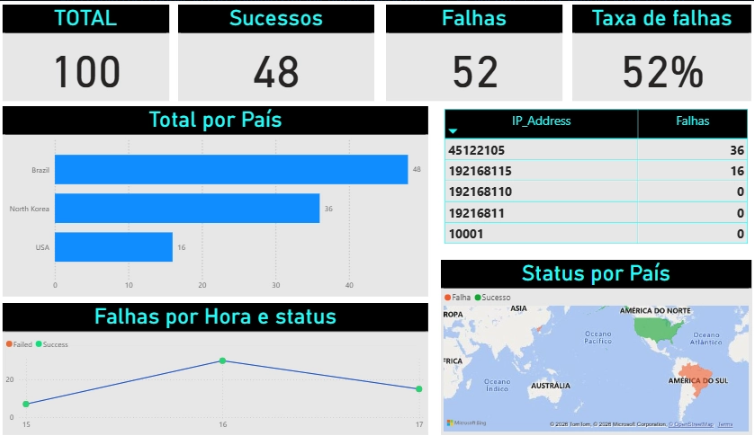

Layout of this report page (visuals, bound fields, positions):
{"tool":"powerbi","page":{"name":"Relatório_anomalias_países","canvas":[1280,720],"ordinal":0},"visuals":[{"type":"actionButton","box":[0,0,100,40],"z":0},{"type":"barChart","title":"Total por País","fields":{"Category":["logs_seguranca.country"],"Y":["CountNonNull(logs_seguranca.country)"]},"box":[49.8,174.1,692.2,310.2],"z":1000},{"type":"card","title":"TOTAL","fields":{"Values":["CountNonNull(logs_seguranca.status)"]},"box":[49.8,8.8,270.7,156.6],"z":2000},{"type":"card","title":"Falhas","fields":{"Values":["logs_seguranca.Falhas"]},"box":[673.2,8.8,286.8,156.6],"z":3000},{"type":"card","title":"Taxa de falhas","fields":{"Values":["logs_seguranca.Percentual_Falha"]},"box":[976.1,8.8,291.2,156.6],"z":4000},{"type":"card","title":"Sucessos","fields":{"Values":["logs_seguranca.Sucessos_Corrigido"]},"box":[335.1,8.8,319,156.6],"z":5000},{"type":"tableEx","fields":{"Values":["logs_seguranca.ip_address","logs_seguranca.Falhas"]},"box":[762.4,174.1,504.9,250.2],"z":6000},{"type":"lineChart","fields":{"Y":["logs_seguranca.Falhas"],"Category":["logs_seguranca.Hora"],"Series":["logs_seguranca.status"]},"box":[49.8,494.6,692.2,215.1],"z":7000},{"type":"filledMap","title":"Status por País","fields":{"Category":["logs_seguranca.country_code"],"Series":["logs_seguranca.status_pt"]},"box":[762.4,424.4,504.9,285.4],"z":8000}]}

Visuals, with their boxes in screenshot pixels (x1, y1, x2, y2), scaled from the page's 1280x720 canvas onto the 754x435 screenshot:
actionButton: (0, 0, 59, 24)
"Total por País" barChart: (29, 105, 437, 293)
"TOTAL" card: (29, 5, 189, 100)
"Falhas" card: (397, 5, 566, 100)
"Taxa de falhas" card: (575, 5, 747, 100)
"Sucessos" card: (197, 5, 385, 100)
tableEx - logs_seguranca.ip_address x logs_seguranca.Falhas: (449, 105, 747, 256)
lineChart - logs_seguranca.Falhas x logs_seguranca.Hora: (29, 299, 437, 429)
"Status por País" filledMap: (449, 256, 747, 429)
